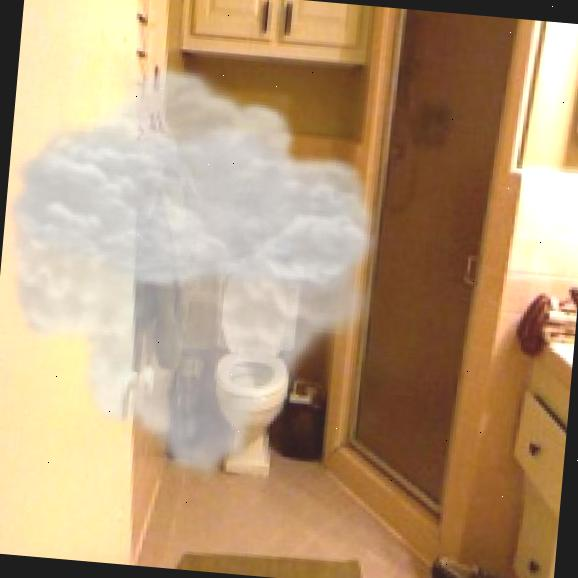smoke: (0, 50, 400, 498)
